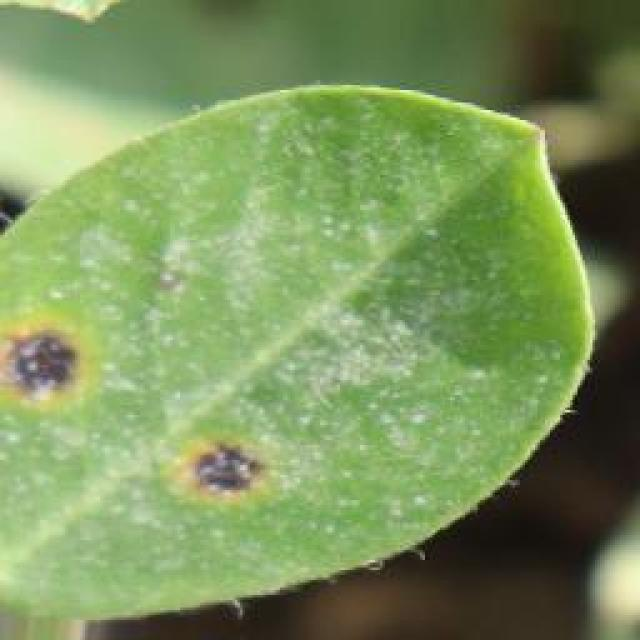Sigatoka: (6, 287, 112, 430), (184, 412, 294, 526)
